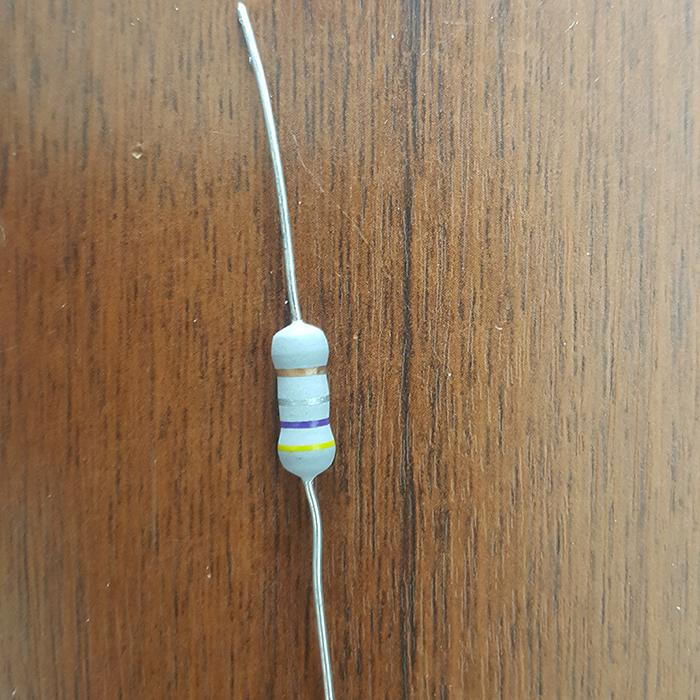resistor: (270, 319, 337, 481)
